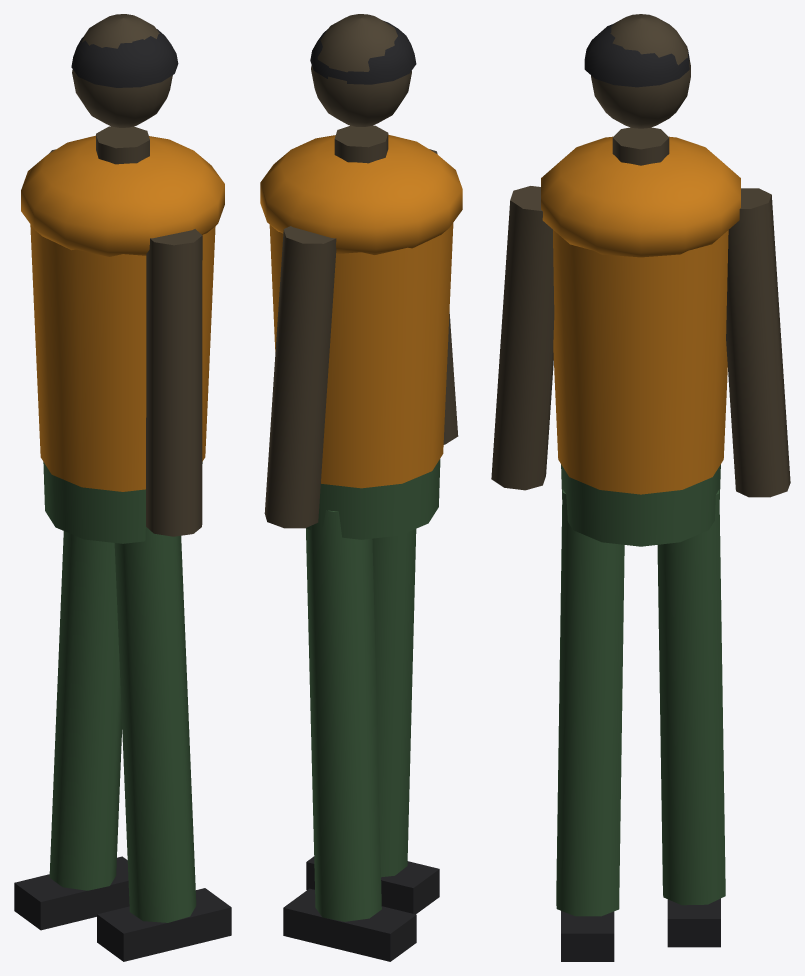
Rendered from KIT_FIGURE_7.glb.
The picture shows the model from 3 angles, left to right: view 1: azimuth 30°, elevation 25°; view 2: azimuth 150°, elevation 25°; view 3: azimuth 270°, elevation 25°; orthographic projection.
Visible parts, largest first — view 1: KIT_FIGURE_7; view 2: KIT_FIGURE_7; view 3: KIT_FIGURE_7.
Boxes of the visible parts, left/top/right/bottom form: KIT_FIGURE_7: left=14, top=14, right=231, bottom=961; KIT_FIGURE_7: left=260, top=14, right=462, bottom=961; KIT_FIGURE_7: left=491, top=14, right=790, bottom=961.
Bounding box in the file's own units: 0.3276 × 1.6 × 0.4772.
